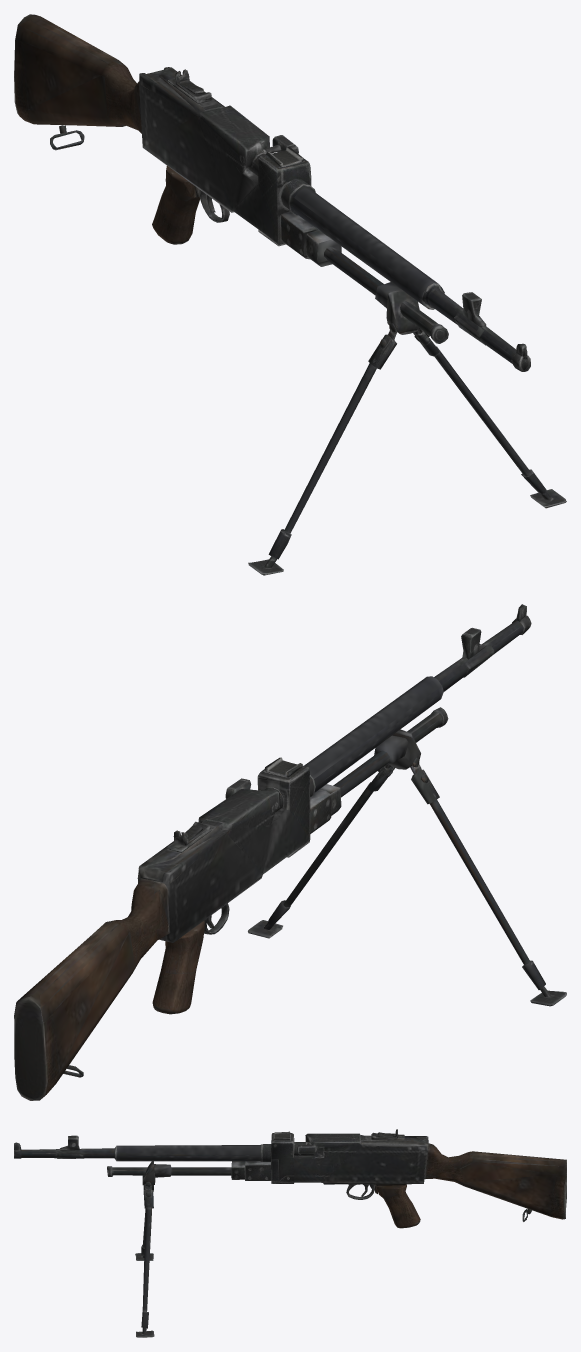
File: m1919a6-bipod.fbx
3 renders of one model, top to bottom at view 1: azimuth 30°, elevation 25°; view 2: azimuth 150°, elevation 25°; view 3: azimuth 270°, elevation 25°, orthographic. The views are drawn at different scales.
Visible parts, largest first — view 1: m1919a6-bipod; view 2: m1919a6-bipod; view 3: m1919a6-bipod.
Part boxes in pixels (bbox=[...]): m1919a6-bipod: bbox=[14, 14, 566, 575]; m1919a6-bipod: bbox=[14, 604, 566, 1100]; m1919a6-bipod: bbox=[14, 1129, 566, 1337].
Size of the model in its own units: 47.98 by 45.48 by 135.
1 material, 1 textured.
